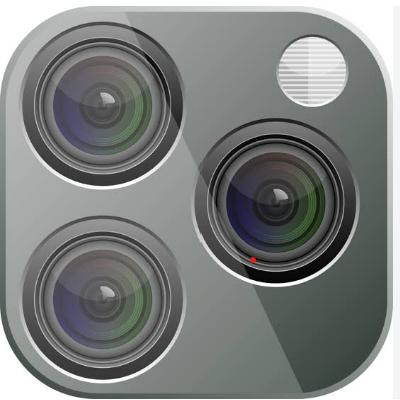hidden camera: (1, 7, 392, 398)
